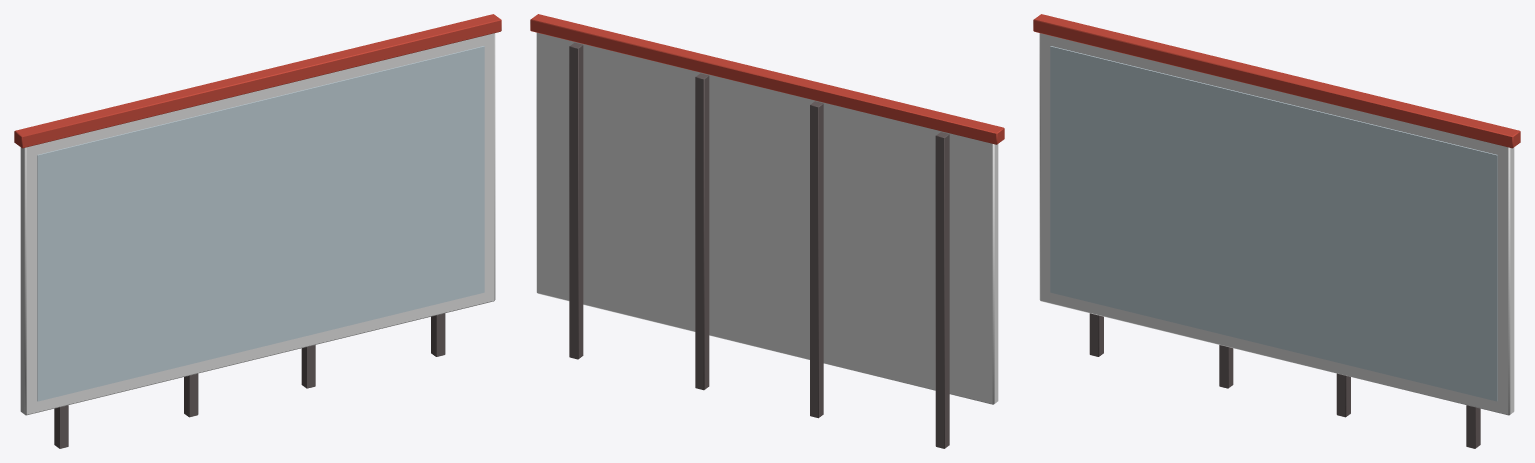
File: drive_in_screen.glb
3 views of the same model, side by side, from view 1: azimuth 30°, elevation 25°; view 2: azimuth 150°, elevation 25°; view 3: azimuth 330°, elevation 25° (orthographic). The views are drawn at different scales.
Parts seen in each view (by area): view 1: drive_in_screen; view 2: drive_in_screen; view 3: drive_in_screen.
Boxes of the visible parts, x1,y1,x2,y2 form: drive_in_screen: (14, 14, 501, 448); drive_in_screen: (530, 14, 1004, 448); drive_in_screen: (1033, 14, 1520, 448).
Size of the model in its own units: 20.4 by 13.45 by 1.1.
